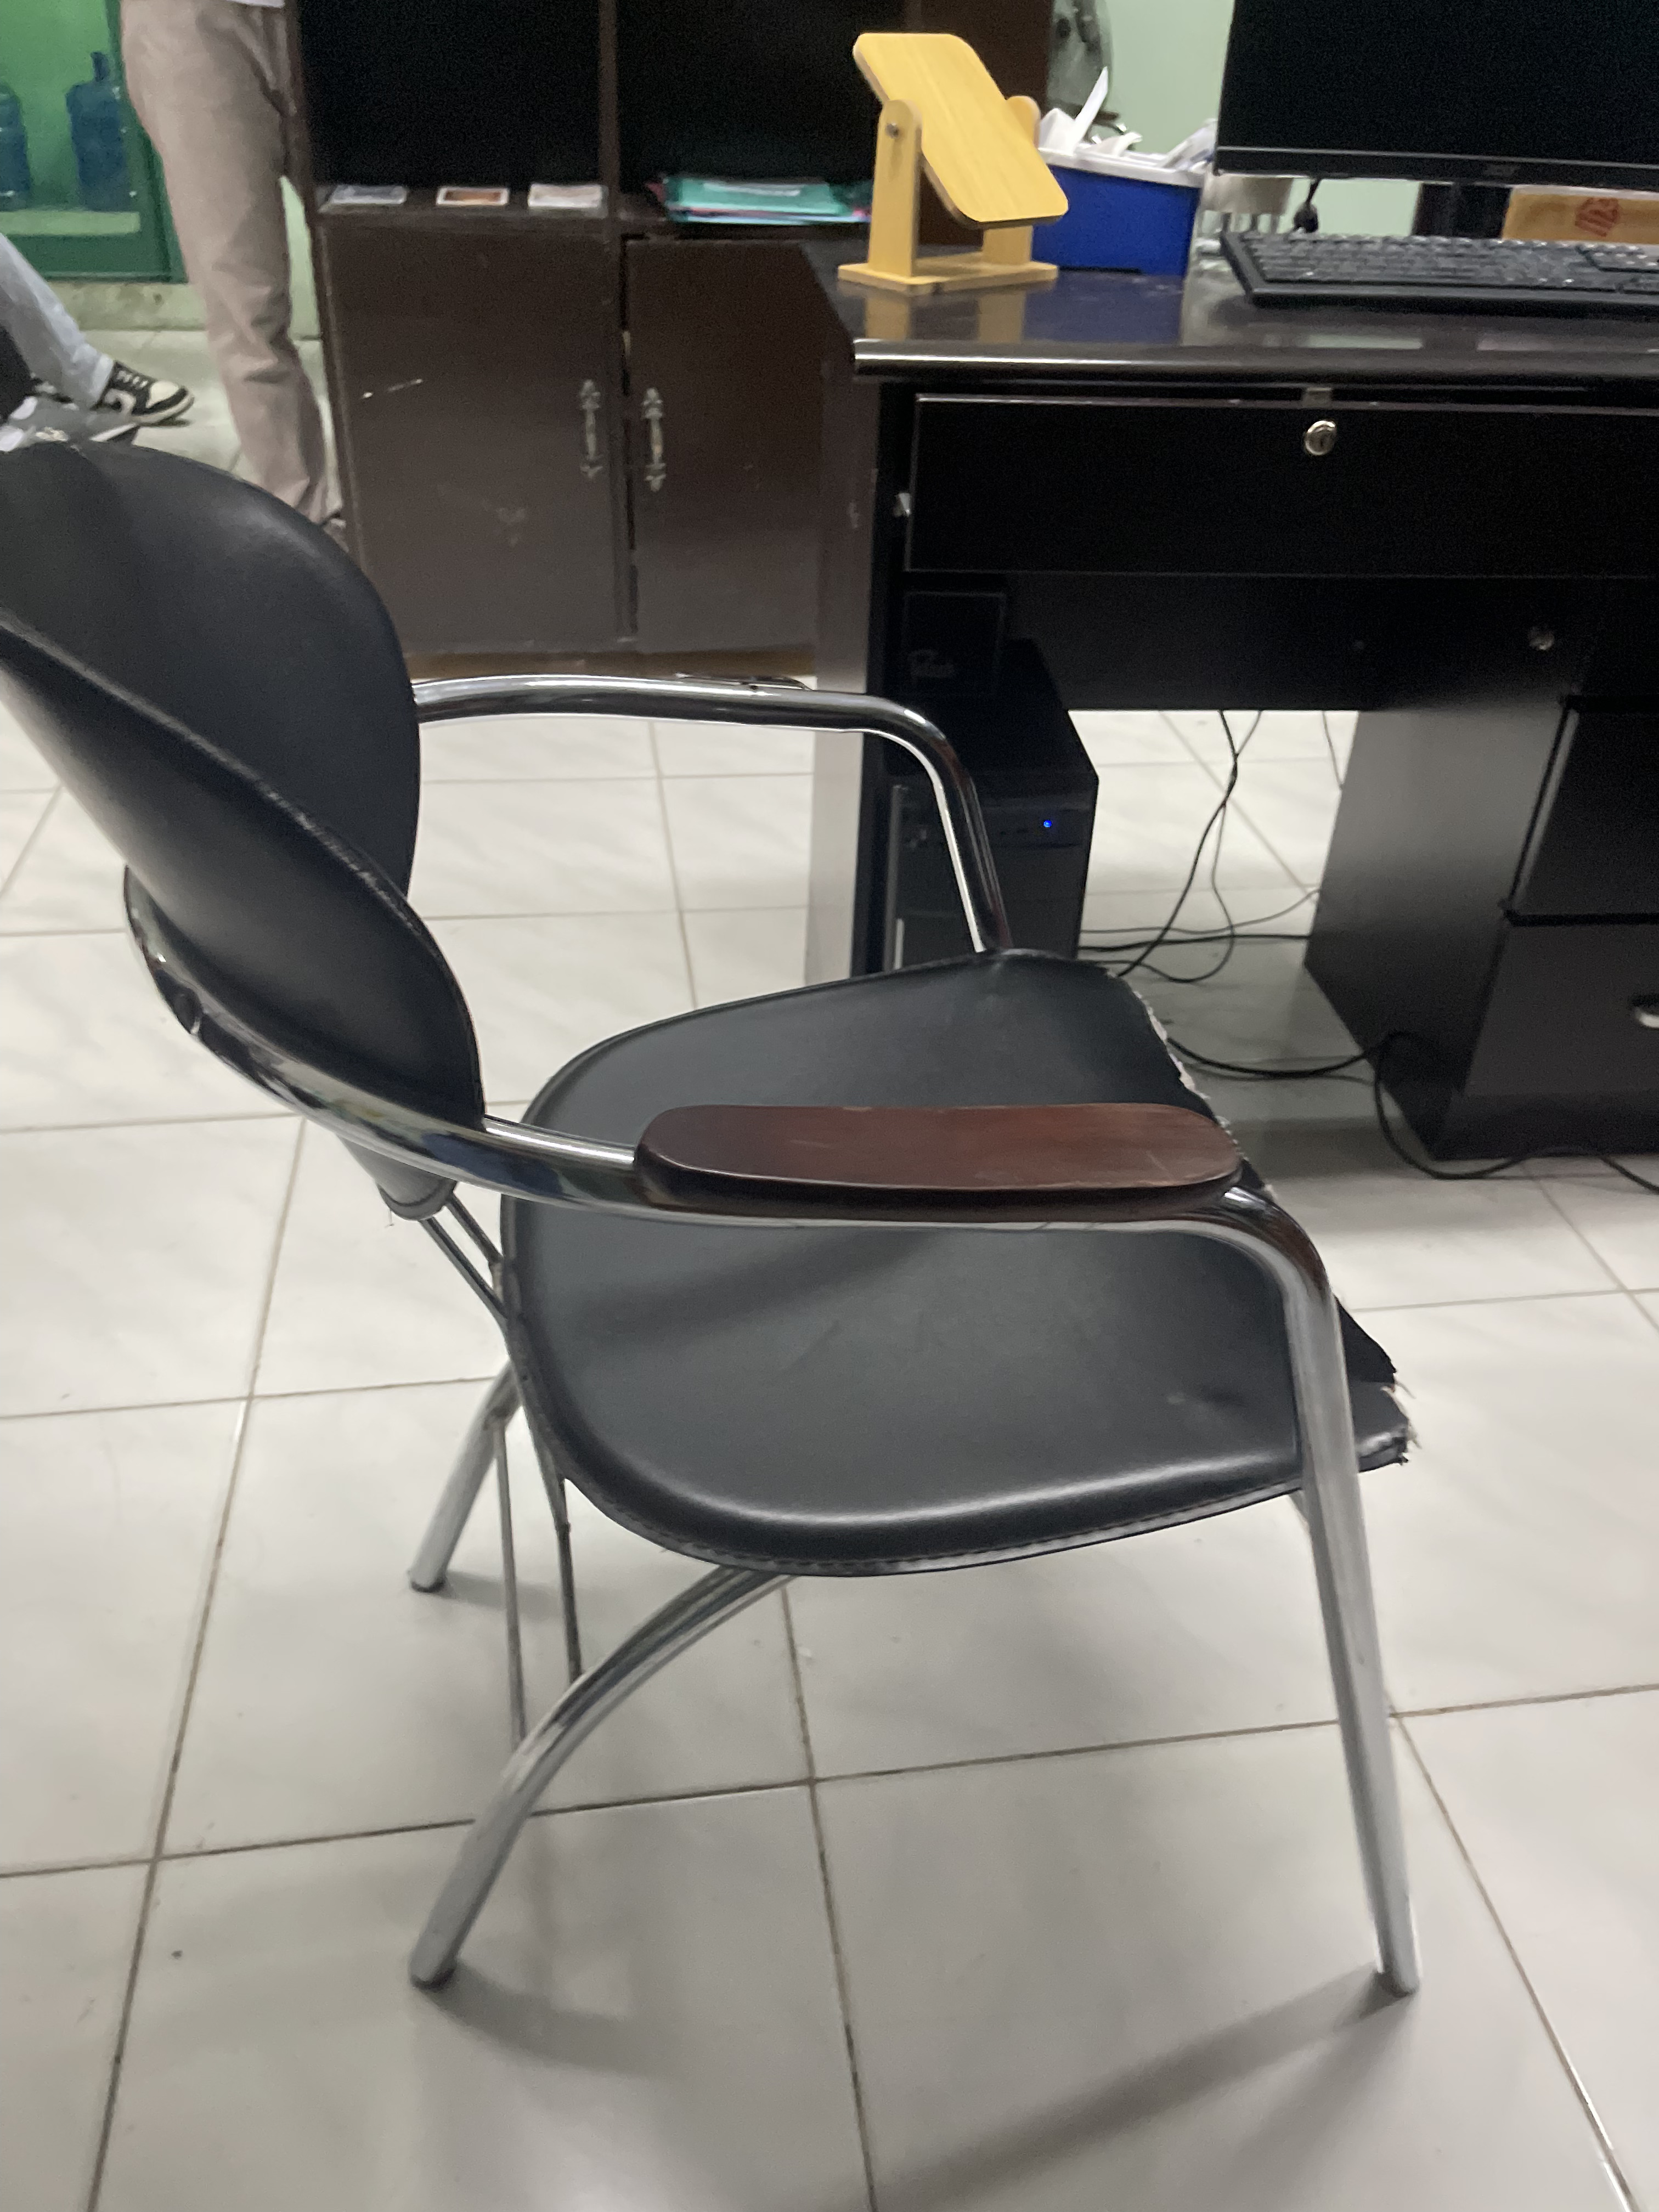chair1: (9, 441, 1427, 2003)
